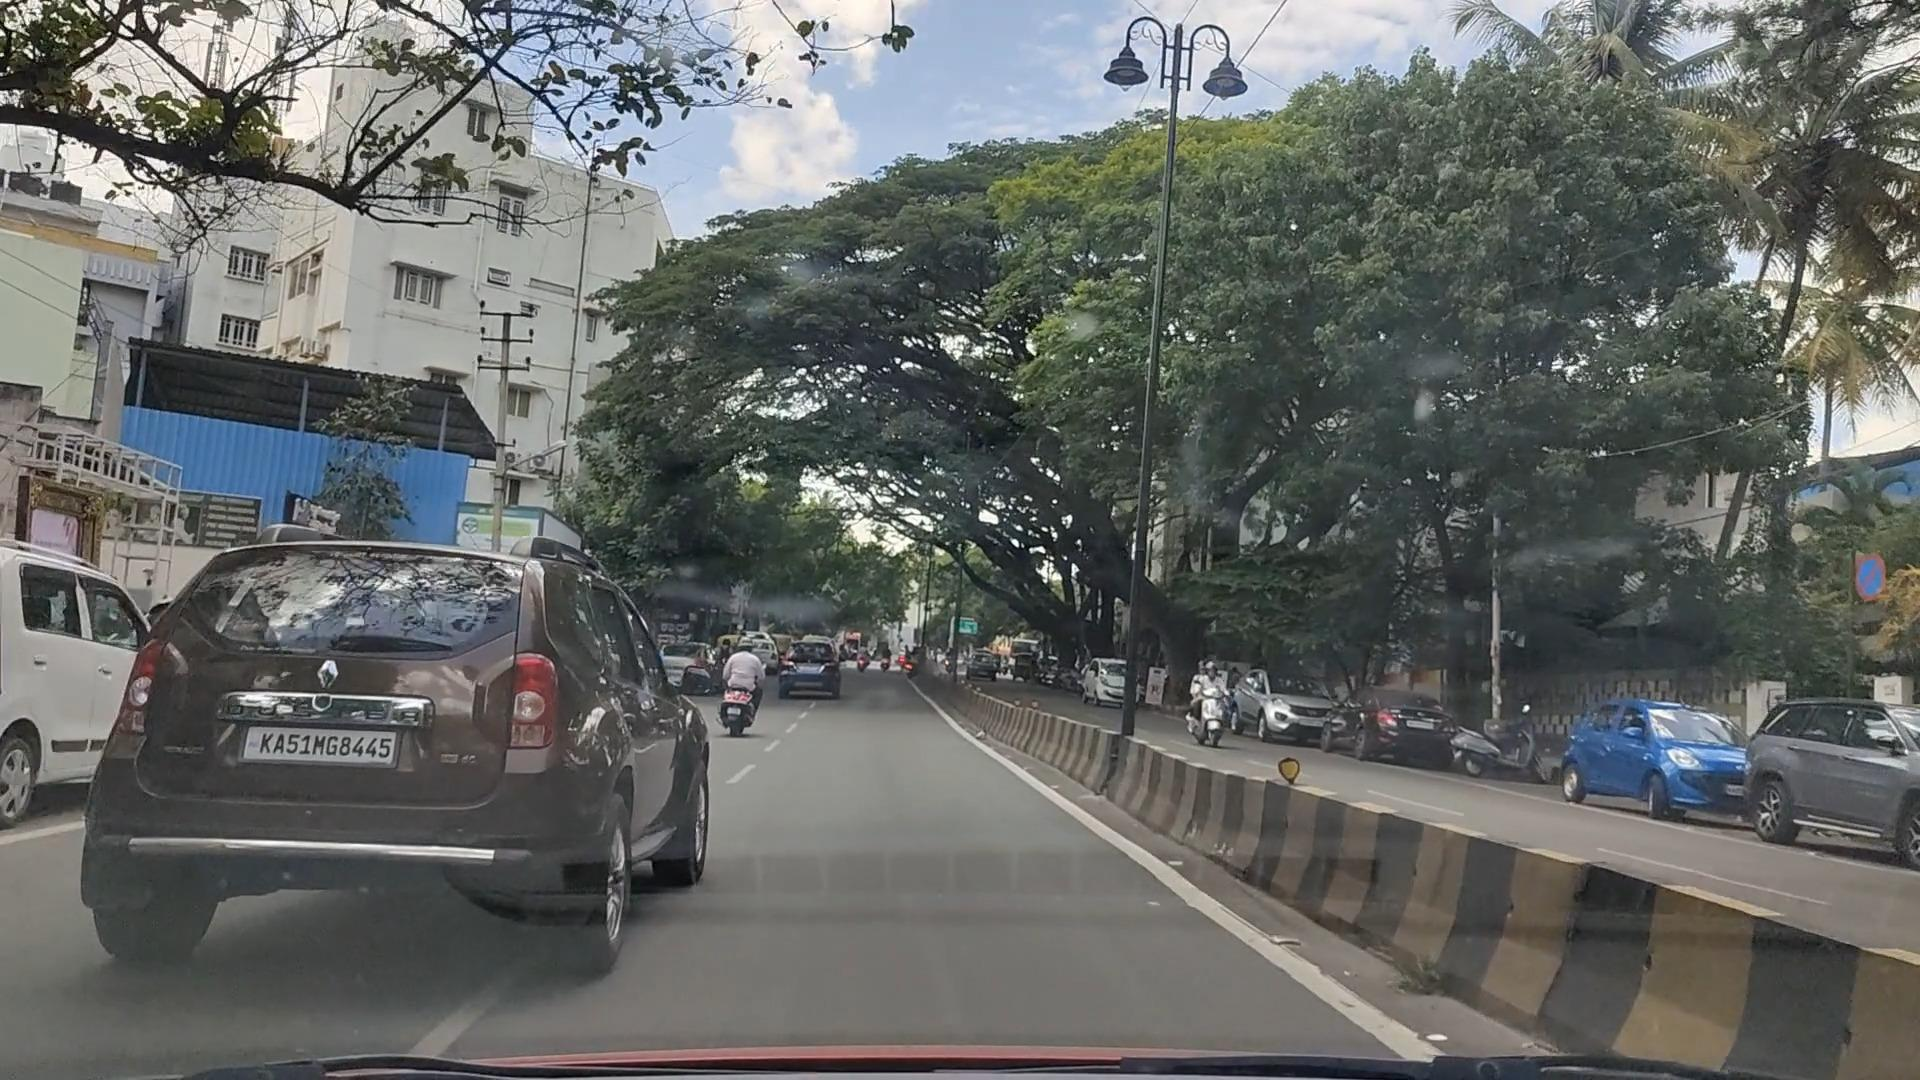LMV: (73, 530, 721, 1001)
